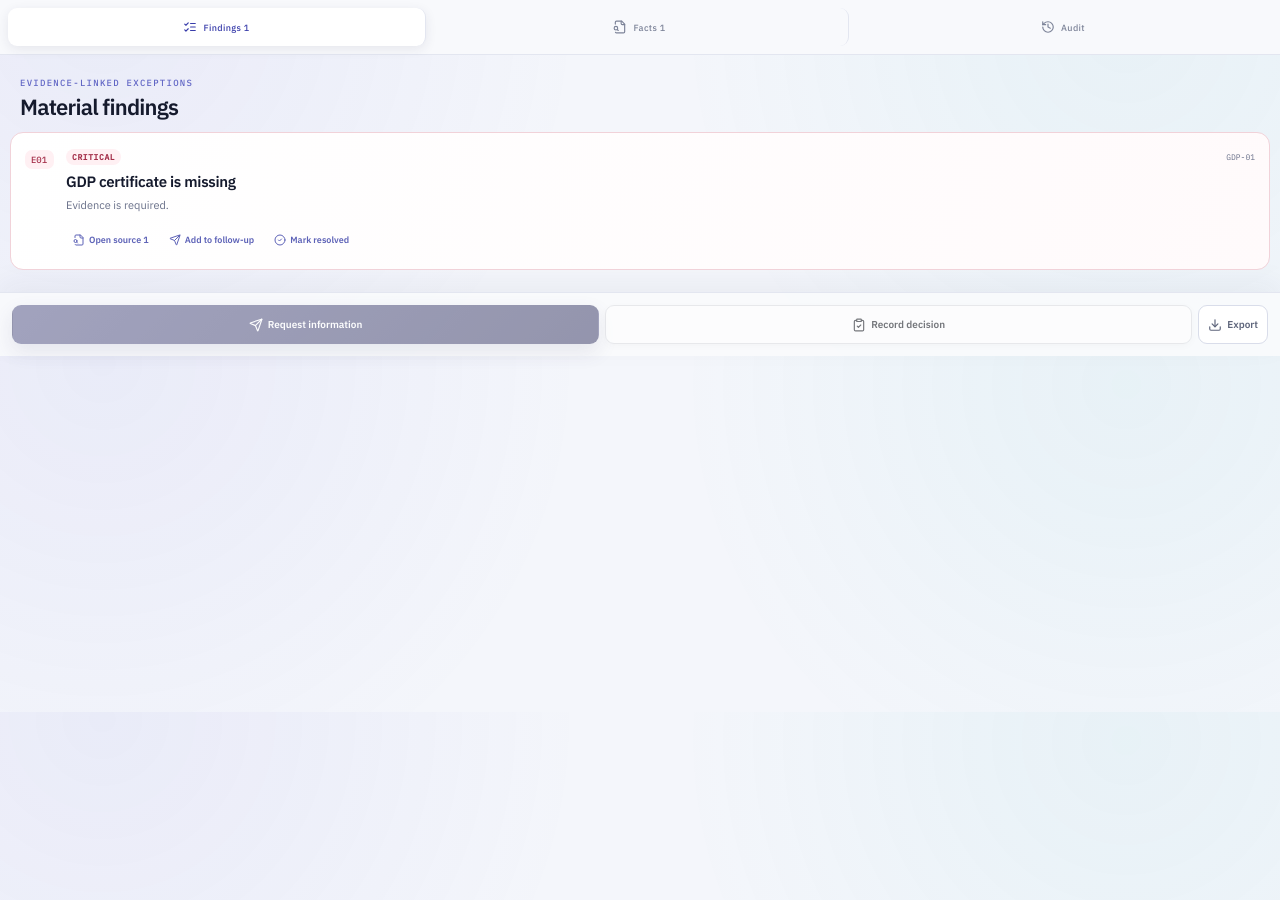
review actions › turns accepted findings into a reviewable information request
The image size is (1280, 900).
expect the button "Request information" is disabled: met, box top-left (12, 306), bottom-right (599, 344)
Click the button "Add to follow-up": click(211, 240) top-left (162, 226), bottom-right (261, 254)
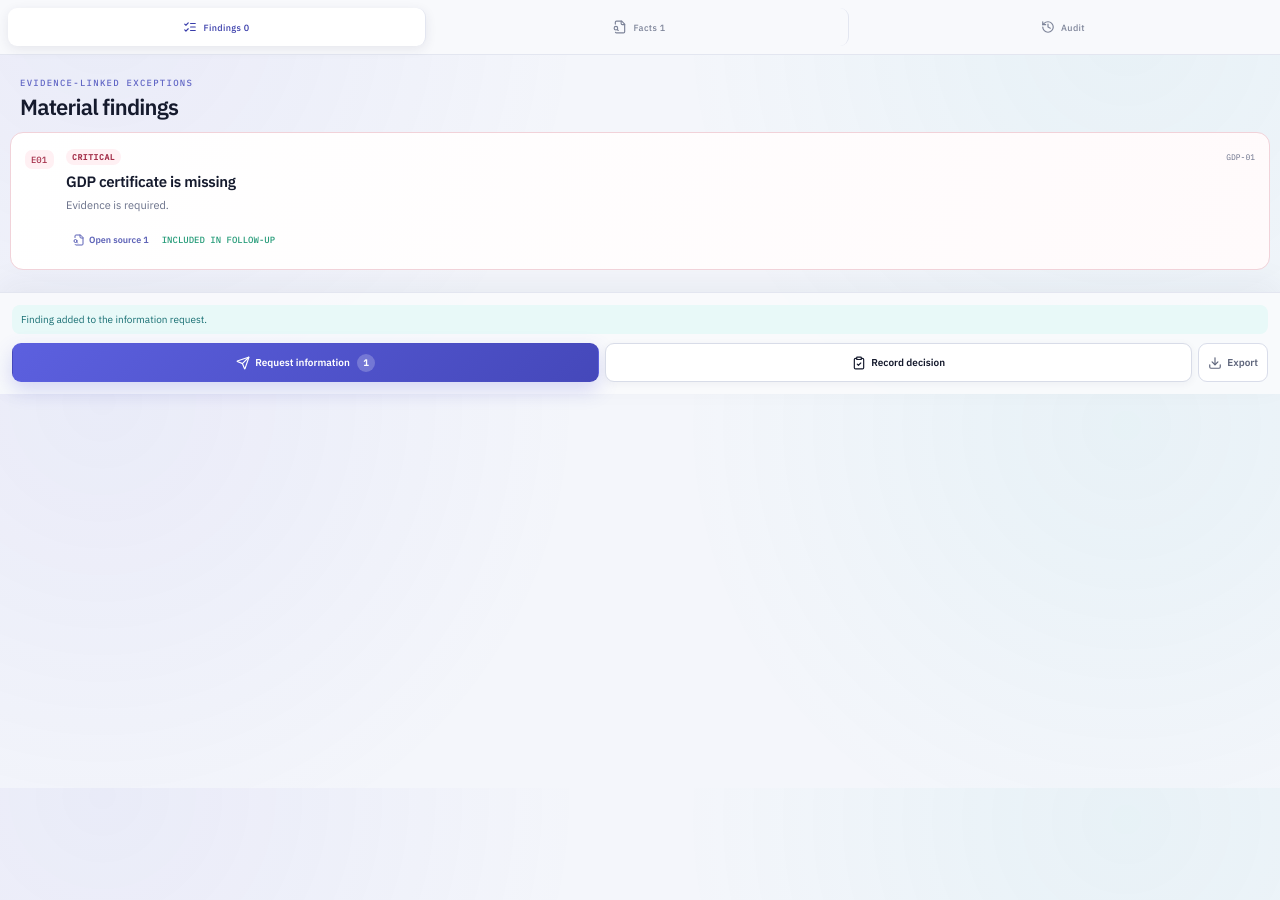
expect the text "Included in follow-up" is shown: met, box top-left (162, 234), bottom-right (275, 246)
expect the button "Request information 1" is enabled: met
Click the button "Request information 1": click(306, 363) top-left (12, 344), bottom-right (599, 382)
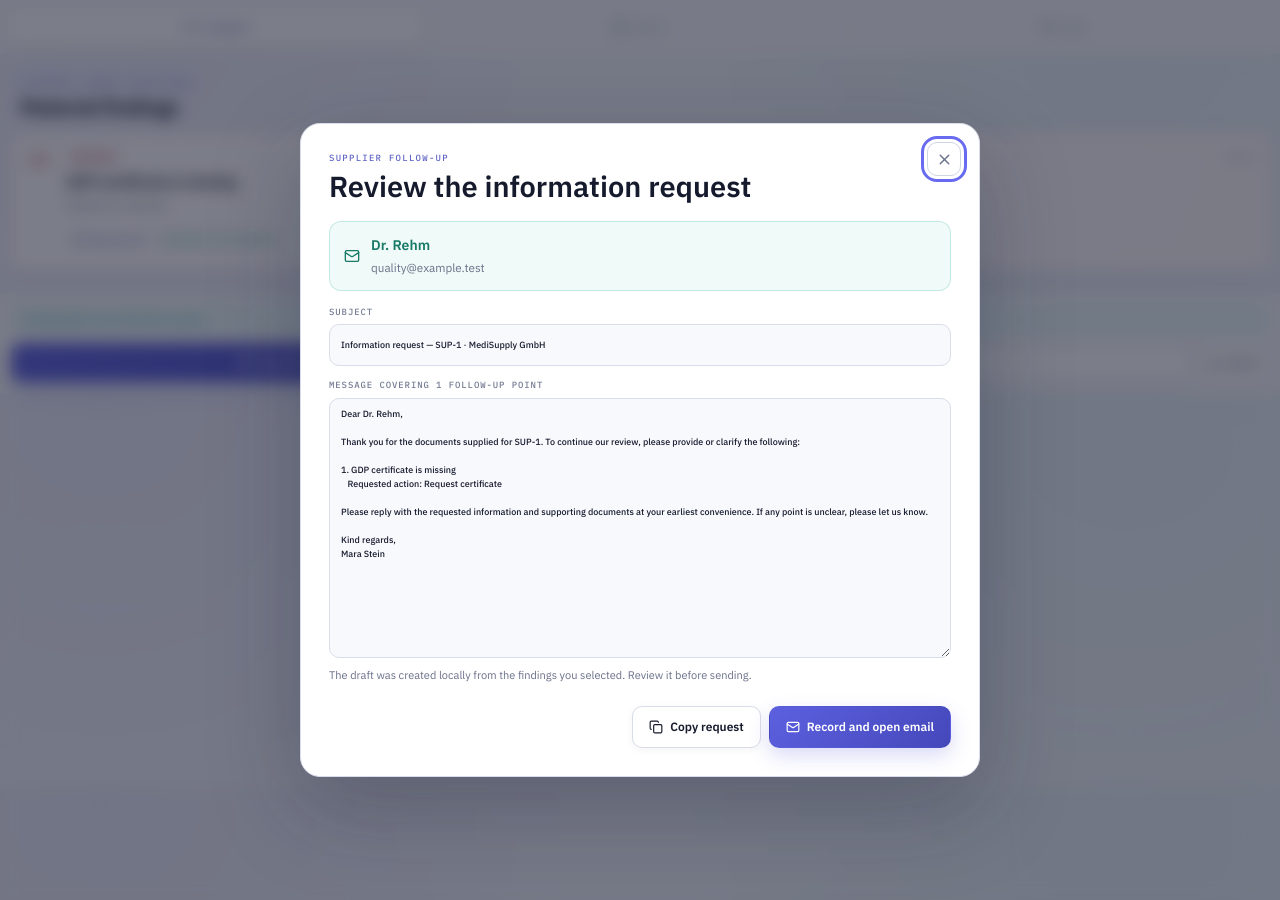
expect the field showing "Information request — SUP-1" is shown: met, box top-left (329, 324), bottom-right (951, 366)
expect the text box showing "GDP certificate is missing" is shown: met, box top-left (329, 398), bottom-right (951, 658)
expect the button "Record and open email" is enabled: met, box top-left (769, 706), bottom-right (951, 748)
Press Escape in the dialog "Review the information request", box top-left (300, 123), bottom-right (980, 777)
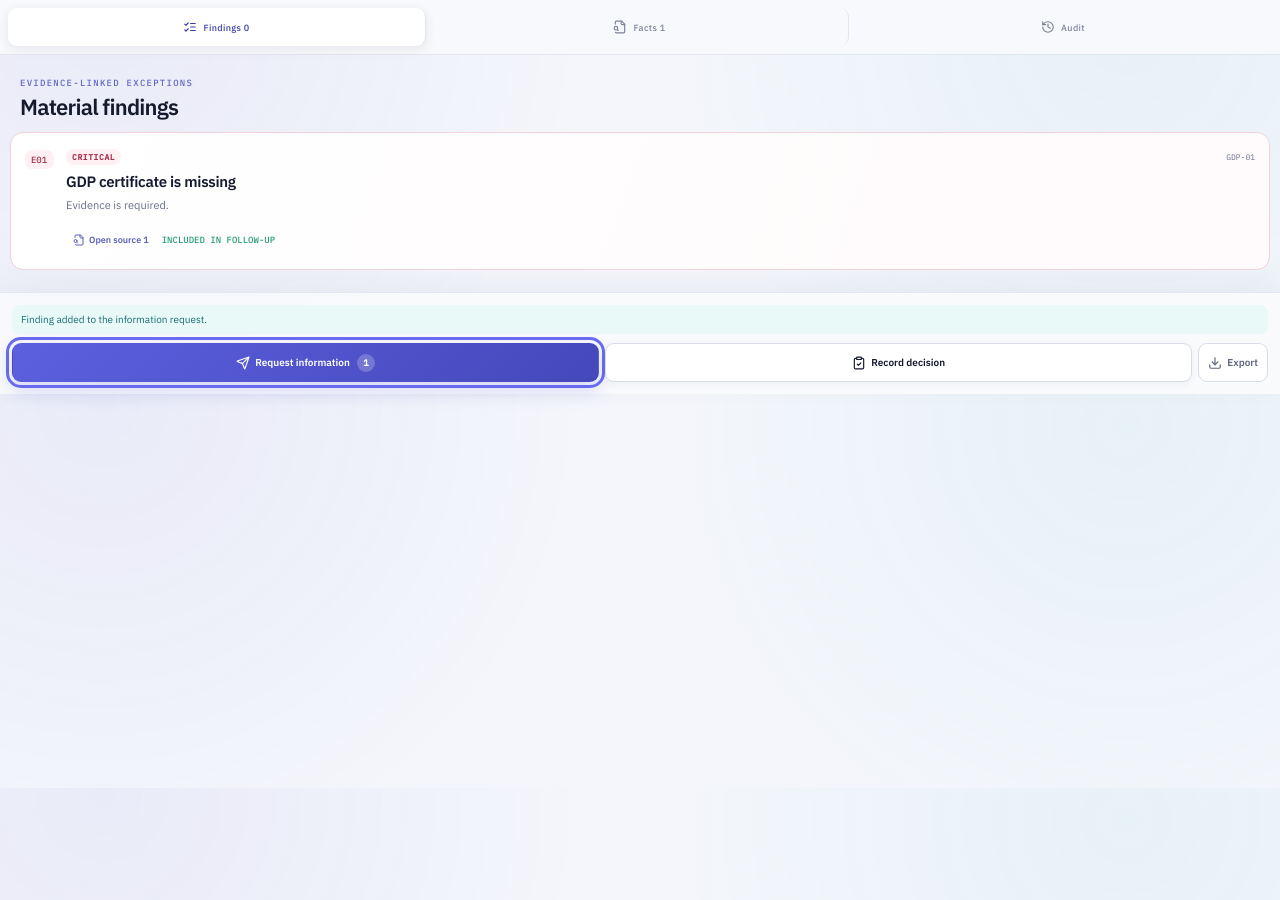
expect the heading "Review the information request" is gone: met
